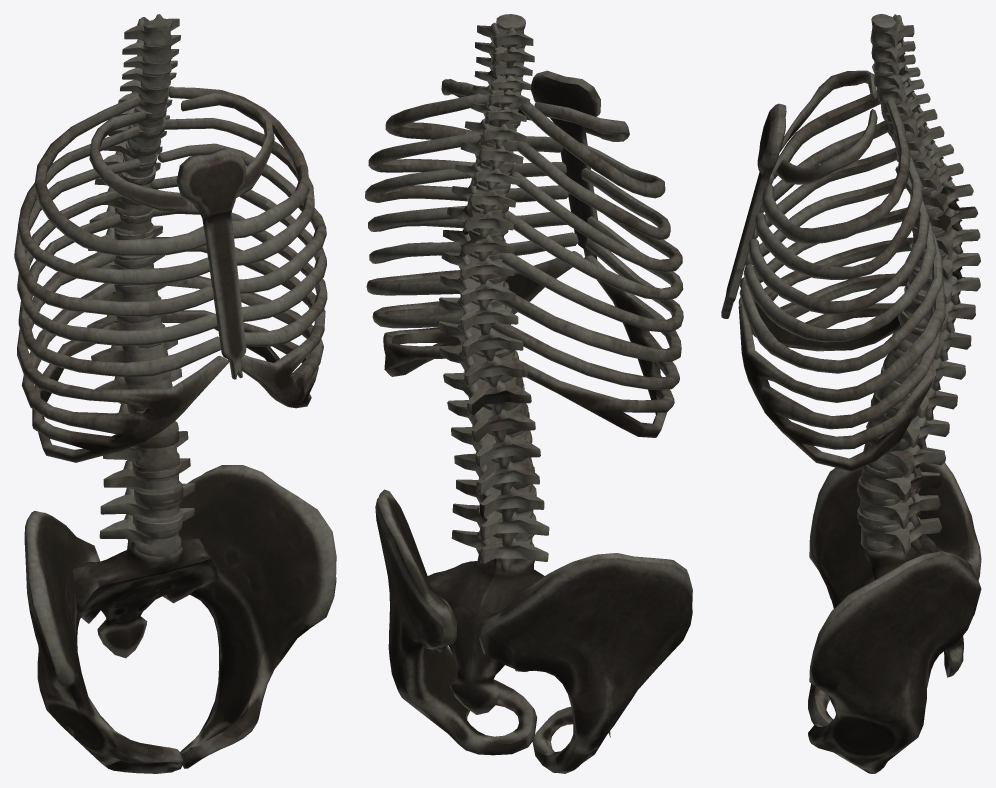
Rendered from body.obj.
The picture shows the model from 3 angles, left to right: view 1: azimuth 30°, elevation 25°; view 2: azimuth 150°, elevation 25°; view 3: azimuth 270°, elevation 25°; orthographic projection.
Parts seen in each view (by area): view 1: _Body__Material; view 2: _Body__Material; view 3: _Body__Material.
Boxes of the visible parts, bbox=[...] form: _Body__Material: bbox=[14, 14, 336, 773]; _Body__Material: bbox=[365, 14, 692, 773]; _Body__Material: bbox=[721, 14, 981, 773].
Size of the model in its own units: 0.1968 by 0.4629 by 0.1484.
